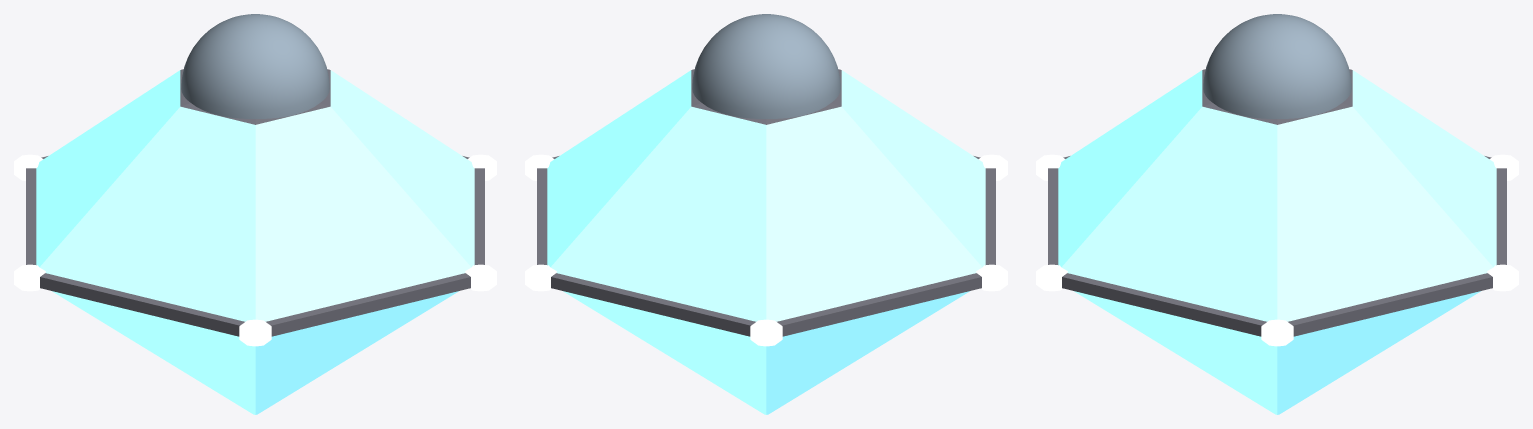
Rendered from diamond.glb.
3 views of the same model, side by side, from view 1: azimuth 30°, elevation 25°; view 2: azimuth 150°, elevation 25°; view 3: azimuth 270°, elevation 25° (orthographic).
Parts seen in each view (by area): view 1: diamond, dome; view 2: diamond, dome; view 3: diamond, dome.
Boxes of the visible parts, x1,y1,x2,y2 form: diamond: (14,69,496,414); dome: (181,14,329,118); diamond: (525,69,1007,414); dome: (692,14,840,118); diamond: (1036,69,1518,414); dome: (1203,14,1351,118).
Bounding box in the file's own units: 4.42 × 3.5 × 3.9.
